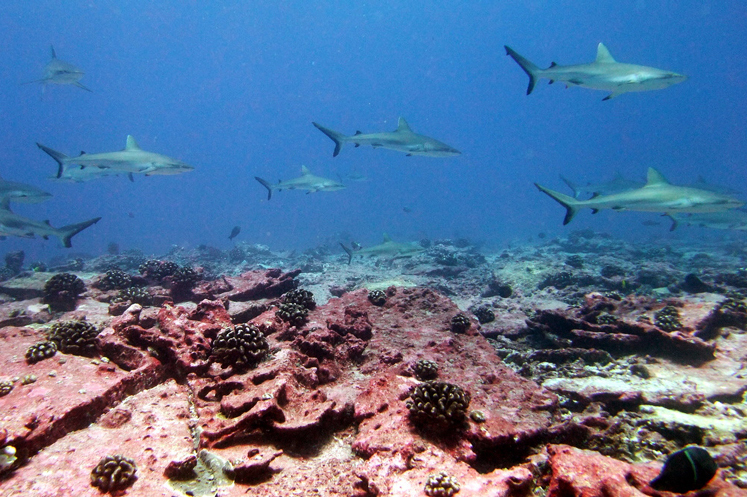Carcharhinus_amblyrhynchos: (491, 29, 696, 103), (512, 165, 739, 226), (307, 110, 470, 162), (40, 133, 199, 186), (35, 42, 106, 105), (257, 163, 353, 202)
